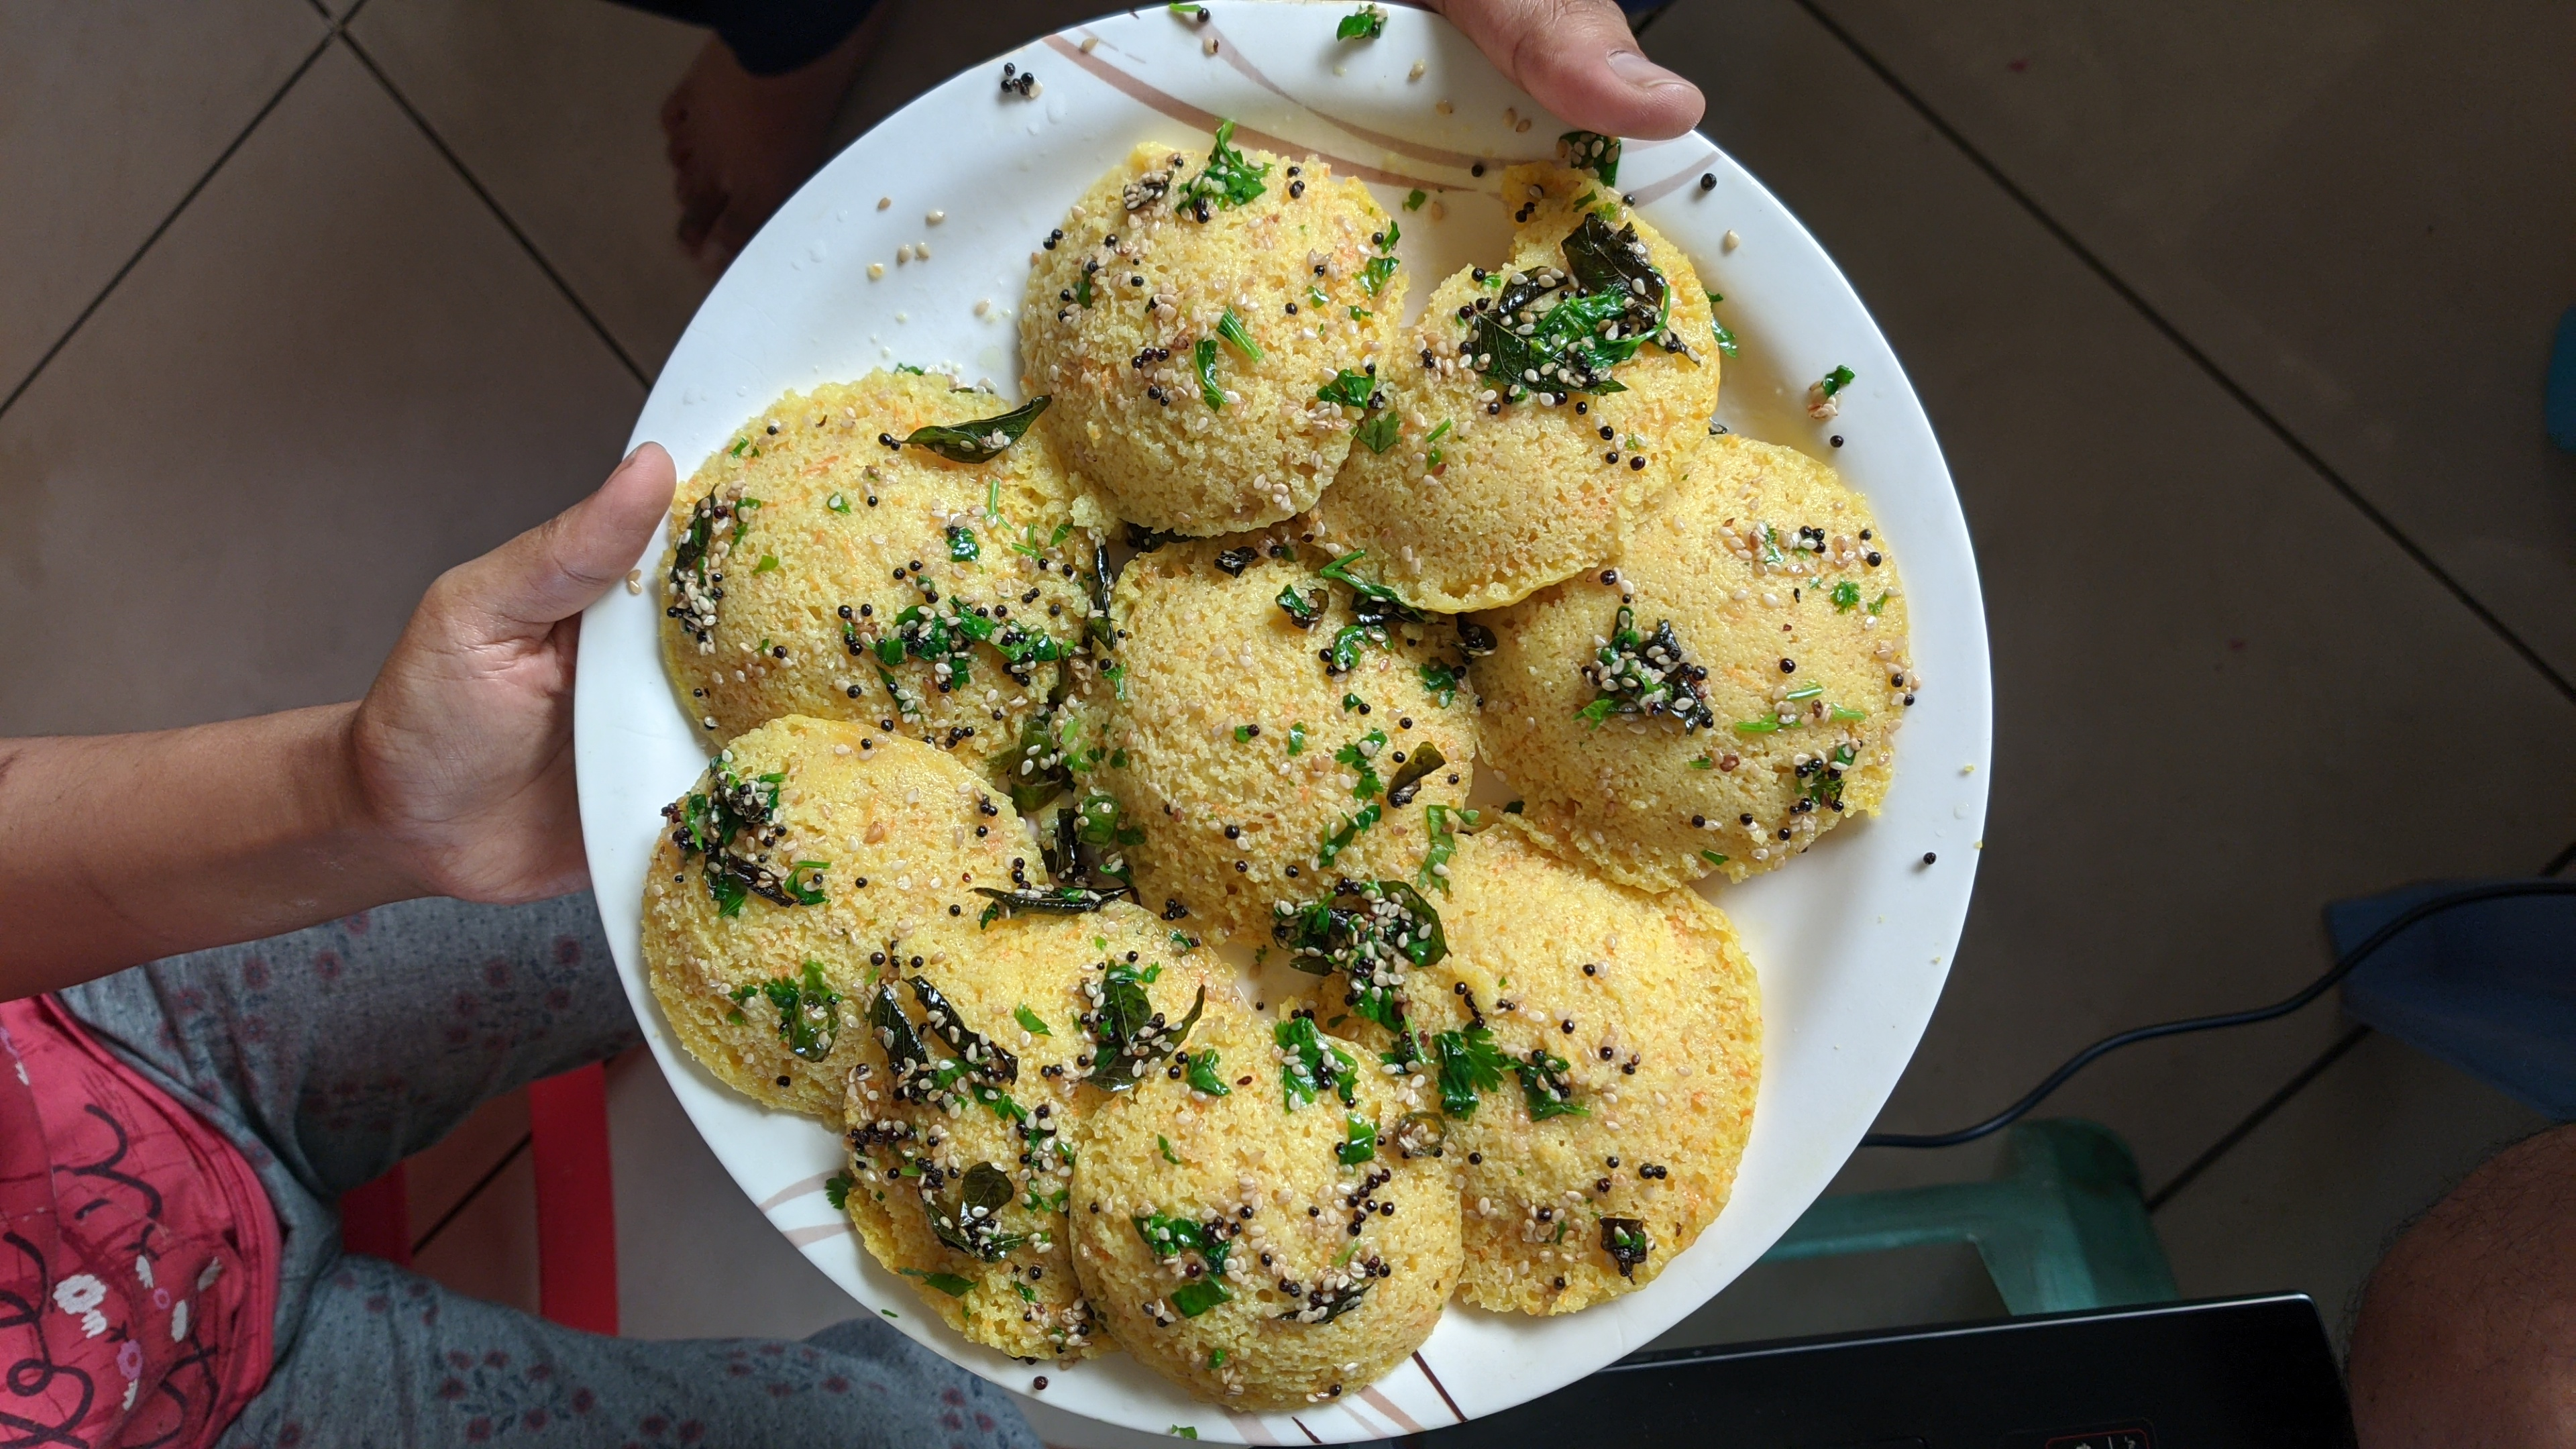food: (628, 111, 1925, 1421)
